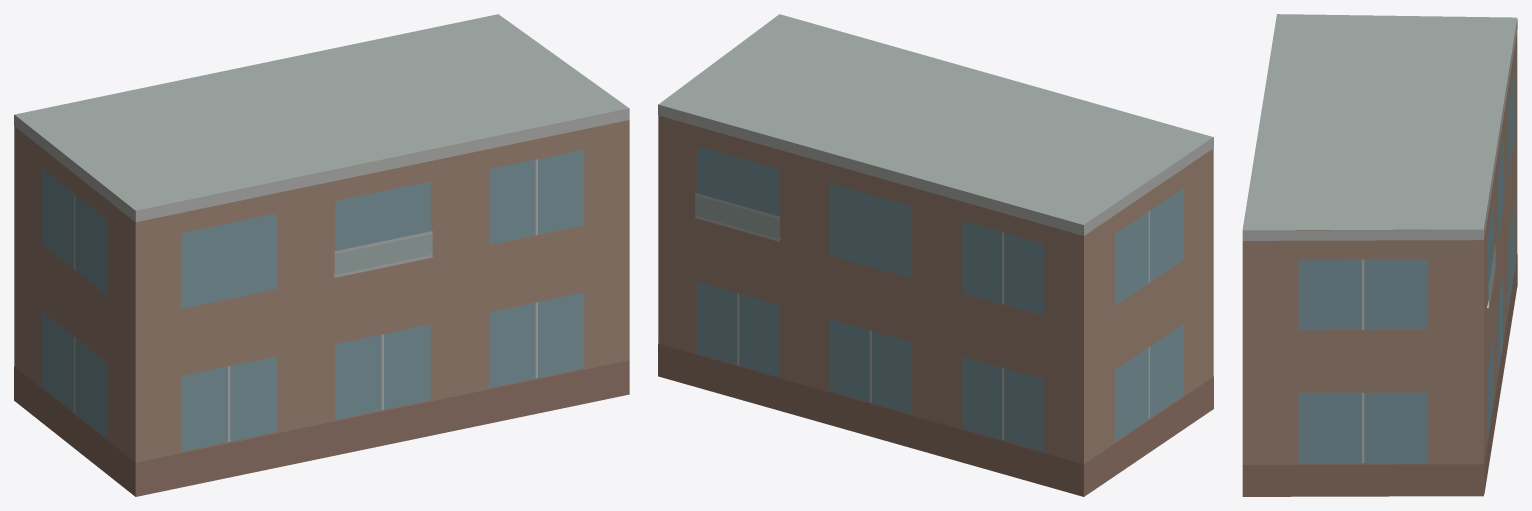
Rendered from survey-upis-32611079.glb.
3 views of the same model, side by side, from view 1: azimuth 30°, elevation 25°; view 2: azimuth 150°, elevation 25°; view 3: azimuth 270°, elevation 25° (orthographic). The views are drawn at different scales.
Visible parts, largest first — view 1: survey-upis-32611079.tmp; view 2: survey-upis-32611079.tmp; view 3: survey-upis-32611079.tmp.
Part boxes in pixels (x1,y1,x2,y2): survey-upis-32611079.tmp: (14, 14, 629, 496); survey-upis-32611079.tmp: (658, 14, 1213, 496); survey-upis-32611079.tmp: (1242, 14, 1517, 496).
Bounding box in the file's own units: 10.62 × 6.1 × 5.72.
